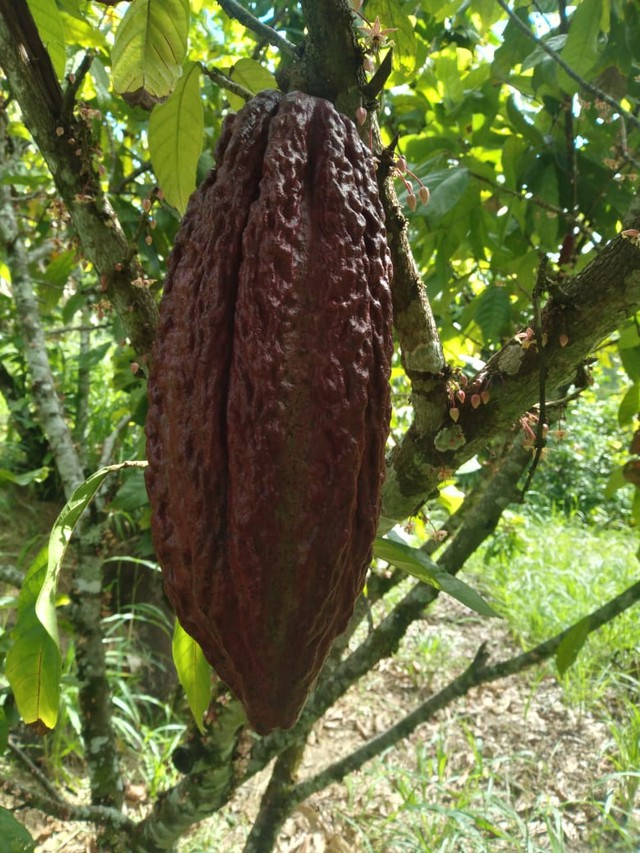Health: (133, 69, 406, 750)
